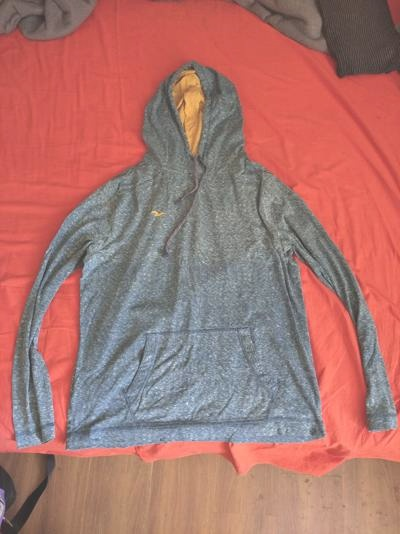Hoodie: (2, 65, 387, 488)
